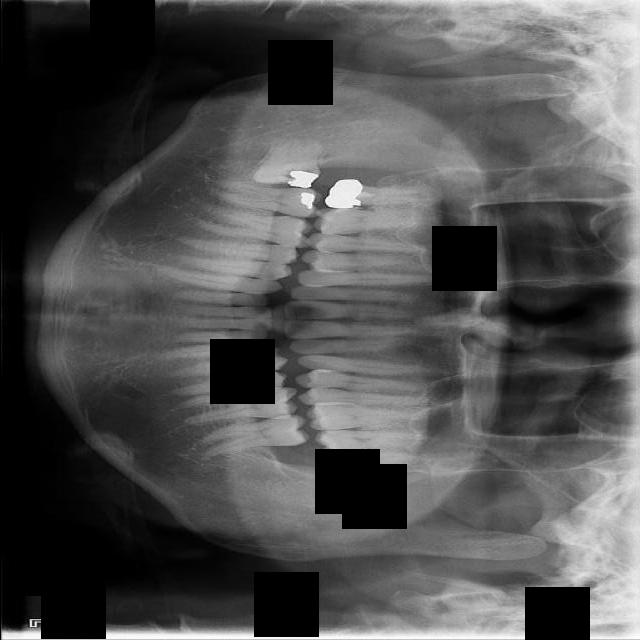52: (250, 160, 322, 189), (322, 172, 368, 217), (277, 184, 324, 220), (282, 163, 311, 181)
73: (52, 603, 60, 607)
BioHorizons Implant: (314, 429, 448, 457)
BioLife Implant: (321, 451, 436, 482)
Blue Sky Bio Implant: (198, 412, 310, 458)
Caries: (321, 173, 461, 211)
Implant: (211, 179, 324, 220)
Keystone Dental Implant: (251, 131, 325, 190)
